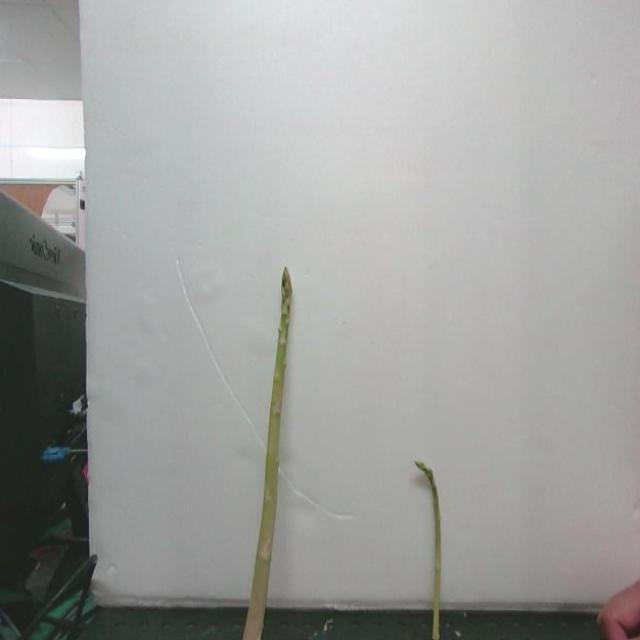aspargus: (244, 270, 293, 640), (417, 461, 444, 640)
